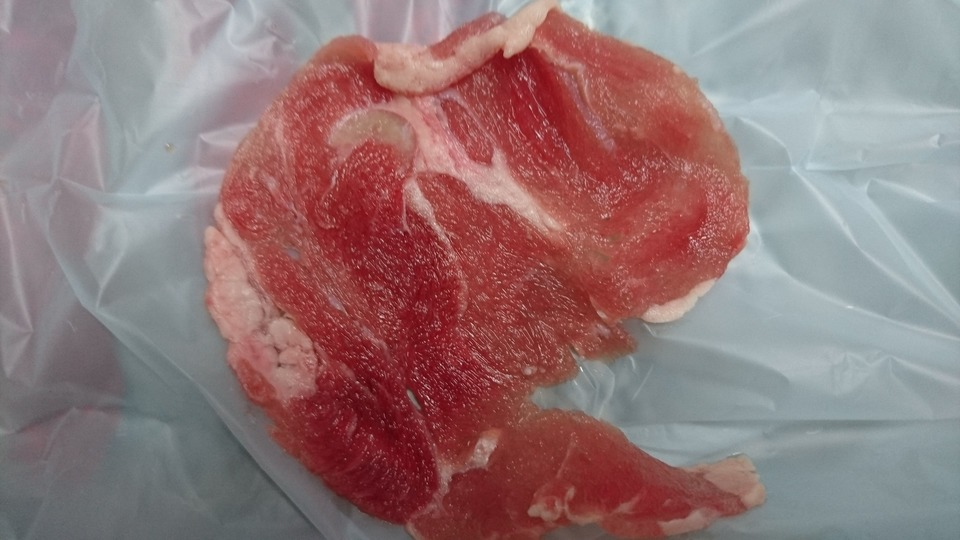restructured meat: (188, 15, 762, 530)
